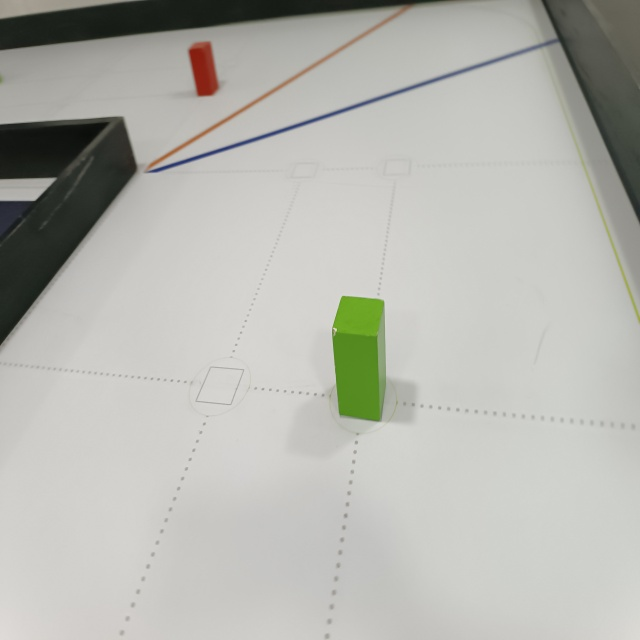blue line: (141, 33, 558, 169)
green rectangular prism: (328, 289, 388, 421)
orange line: (139, 0, 407, 167)
red rectangular prism: (182, 34, 222, 102)
